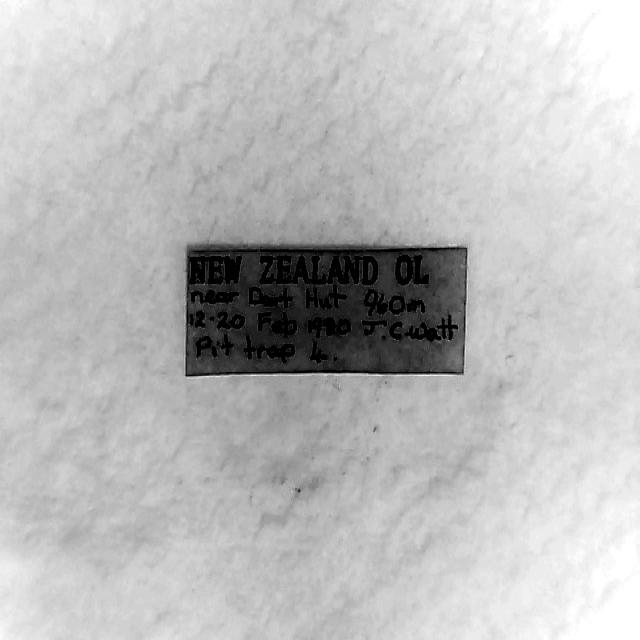mixed_label: (186, 247, 466, 376)
